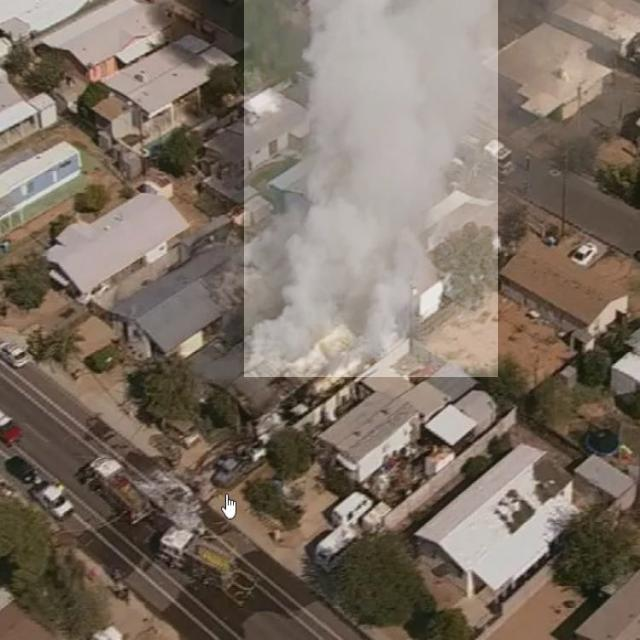Smoke: (244, 0, 498, 377)
